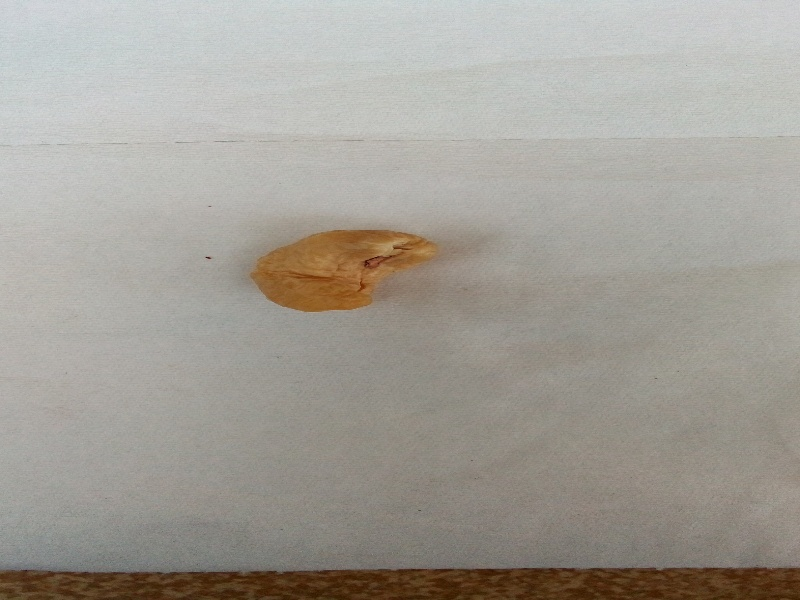cashew: (229, 197, 471, 326)
